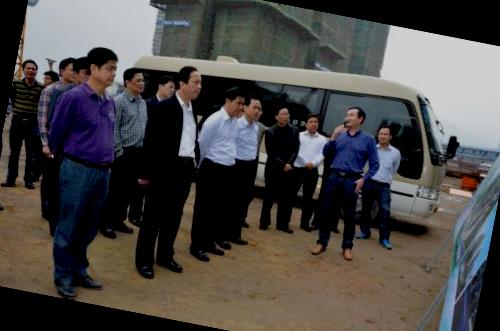no_helmet: (79, 42, 123, 92), (174, 61, 206, 102), (219, 83, 249, 120), (119, 64, 150, 96), (58, 53, 85, 88), (341, 100, 369, 133), (153, 70, 177, 102), (16, 53, 42, 81), (244, 94, 268, 123), (298, 110, 322, 134), (270, 104, 293, 127), (374, 122, 394, 146)
